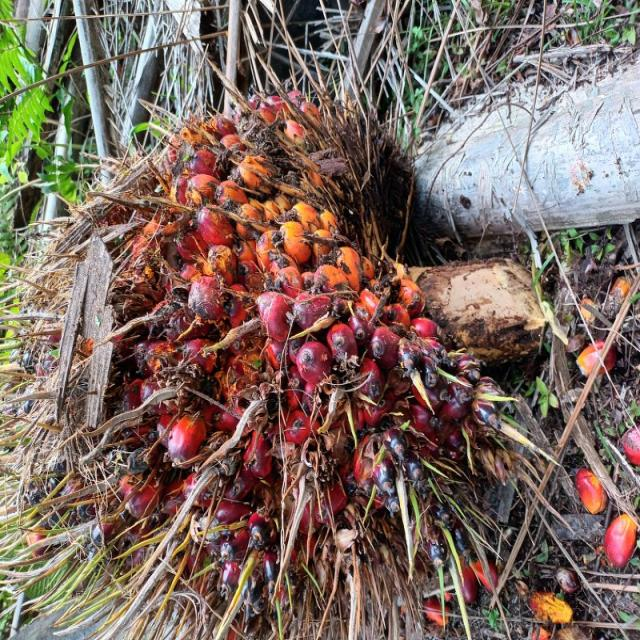fraksi 3: (3, 0, 445, 625)
